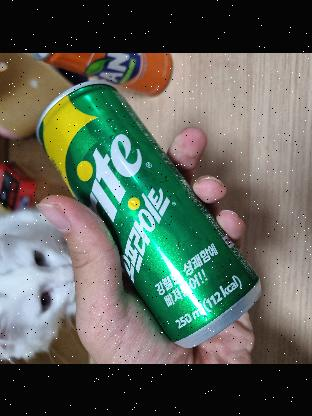Can: (32, 75, 266, 359)
